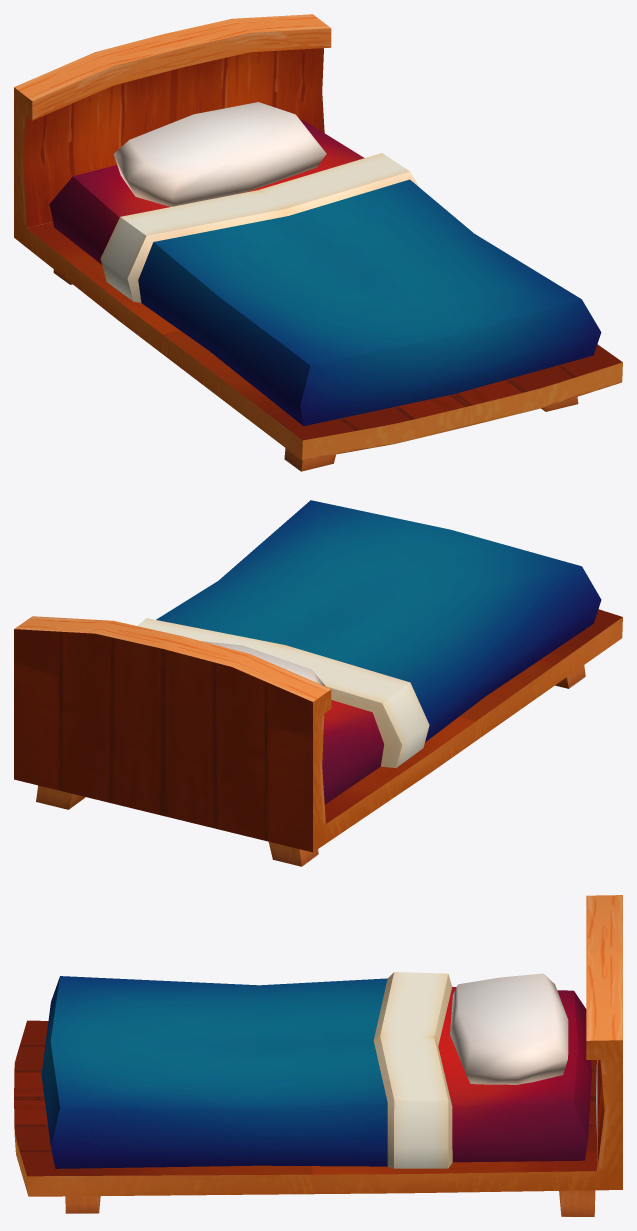
Rendered from bedGenericLv1.fbx.
The picture shows the model from 3 angles, top to bottom: view 1: azimuth 30°, elevation 25°; view 2: azimuth 150°, elevation 25°; view 3: azimuth 270°, elevation 25°; orthographic projection.
Visible parts, largest first — view 1: pCube198, pCube125, pCube197; view 2: pCube125, pCube198, pCube197, pCube129, pCube130; view 3: pCube198, pCube125, pCube197, pCube130, pCube126.
Boxes of the visible parts, bbox=[...] form: pCube198: bbox=[49, 120, 601, 426]; pCube125: bbox=[14, 14, 622, 460]; pCube197: bbox=[113, 102, 326, 206]; pCube125: bbox=[14, 609, 622, 852]; pCube198: bbox=[137, 500, 601, 804]; pCube197: bbox=[201, 641, 325, 686]; pCube129: bbox=[268, 842, 318, 866]; pCube130: bbox=[36, 785, 85, 809]; pCube198: bbox=[41, 972, 591, 1168]; pCube125: bbox=[14, 895, 622, 1196]; pCube197: bbox=[450, 973, 568, 1084]; pCube130: bbox=[559, 1190, 595, 1216]; pCube126: bbox=[65, 1196, 100, 1213].
Bounding box in the file's own units: 5.14 × 3.04 × 8.51.
2 materials, 2 textured.
